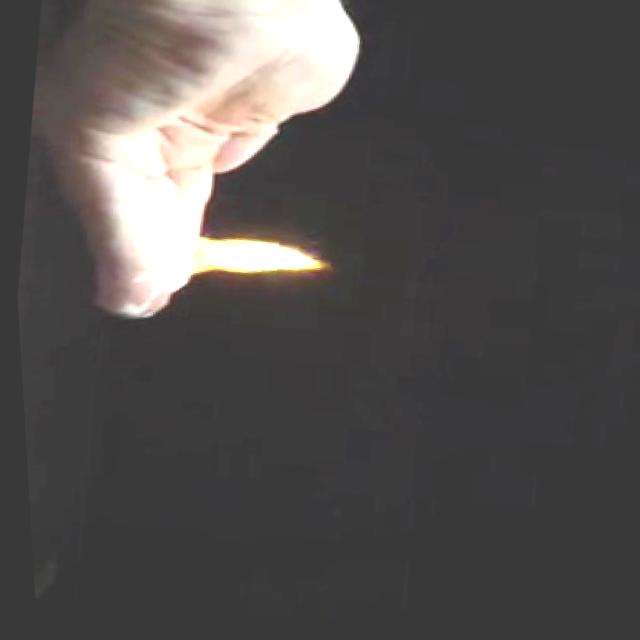Fire: (123, 210, 365, 310)
